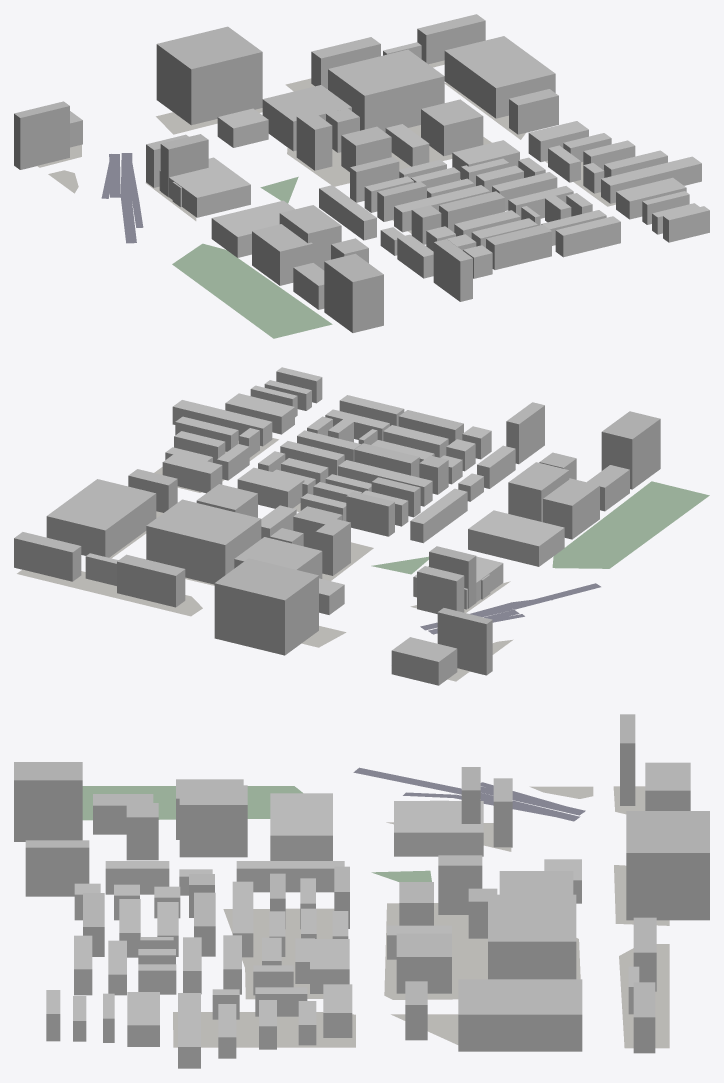
The model's file is 127_110_mid.glb.
3 views of the same model, one above another, from view 1: azimuth 30°, elevation 25°; view 2: azimuth 150°, elevation 25°; view 3: azimuth 270°, elevation 25° (orthographic). The views are drawn at different scales.
Bounding box in the file's own units: 561 × 60.63 × 560.
